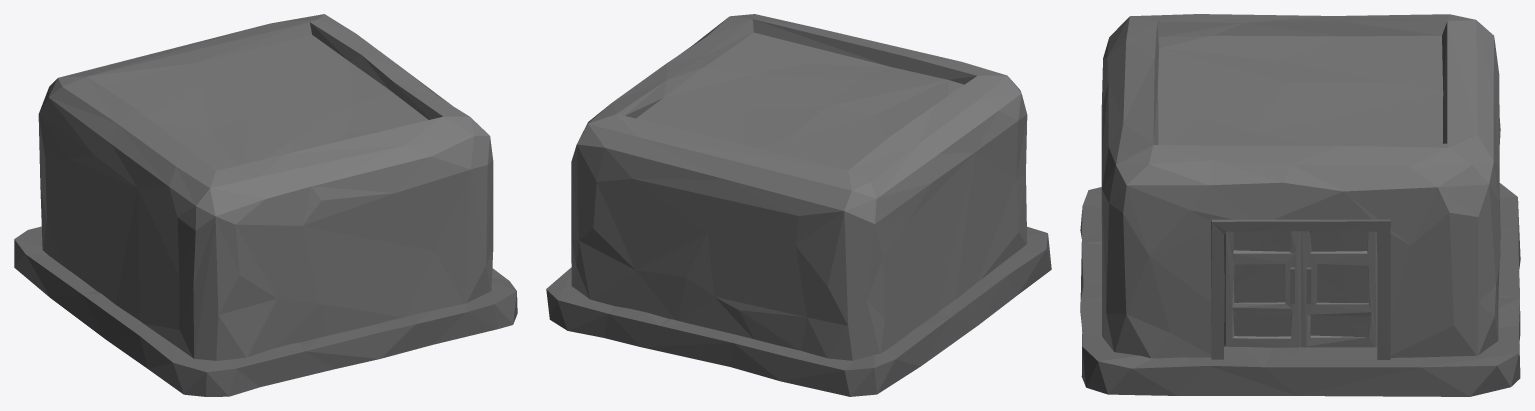
The model's file is Бункер.fbx.
3 views of the same model, side by side, from view 1: azimuth 30°, elevation 25°; view 2: azimuth 150°, elevation 25°; view 3: azimuth 270°, elevation 25° (orthographic). The views are drawn at different scales.
Visible parts, largest first — view 1: Куб.012; view 2: Куб.012; view 3: Куб.012.
Boxes of the visible parts, <box> form: Куб.012: <box>14,14,517,396</box>; Куб.012: <box>546,14,1051,396</box>; Куб.012: <box>1080,14,1520,396</box>.
Size of the model in its own units: 417 by 232 by 416.
